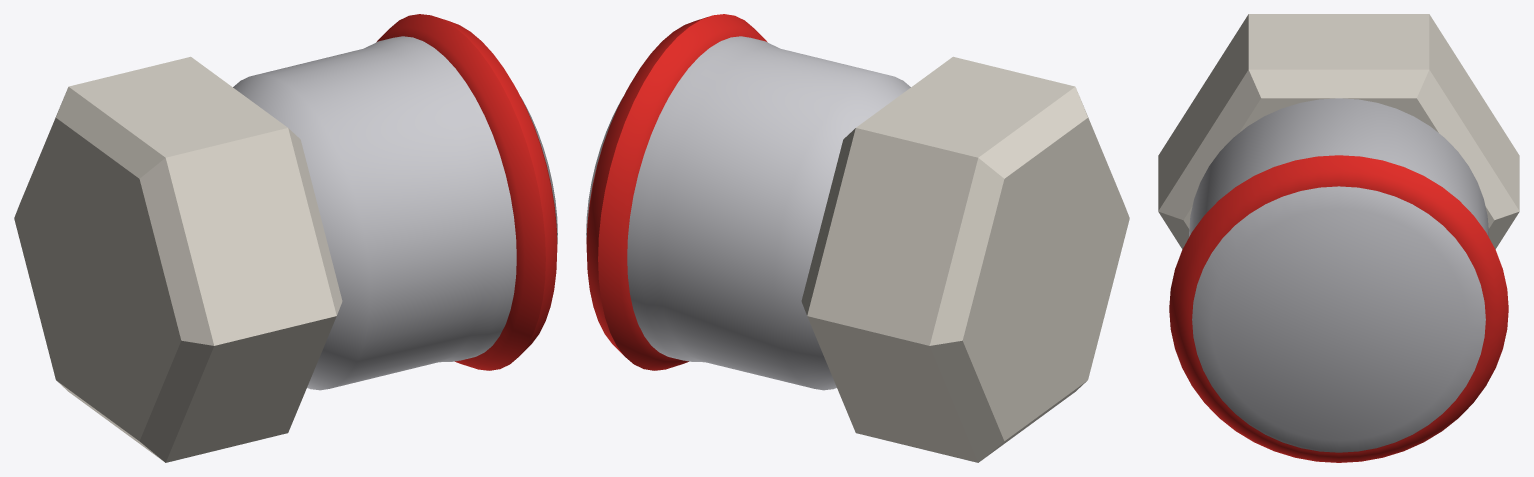
The model's file is fitting_adp_28x1_F_r.glb.
The picture shows the model from 3 angles, left to right: view 1: azimuth 30°, elevation 25°; view 2: azimuth 150°, elevation 25°; view 3: azimuth 270°, elevation 25°; orthographic projection. The views are drawn at different scales.
Visible parts, largest first — view 1: шестигранник переходника, раструб, кольцо пресс; view 2: шестигранник переходника, раструб, кольцо пресс; view 3: раструб, шестигранник переходника, кольцо пресс.
Boxes of the visible parts, bbox=[...] form: шестигранник переходника: bbox=[14, 56, 342, 462]; раструб: bbox=[233, 36, 557, 390]; кольцо пресс: bbox=[376, 14, 557, 370]; шестигранник переходника: bbox=[801, 56, 1129, 462]; раструб: bbox=[586, 36, 910, 390]; кольцо пресс: bbox=[586, 14, 767, 370]; раструб: bbox=[1189, 98, 1488, 452]; шестигранник переходника: bbox=[1158, 14, 1519, 249]; кольцо пресс: bbox=[1169, 155, 1508, 462].
Size of the model in its own units: 0.051 by 0.0412 by 0.0439.
